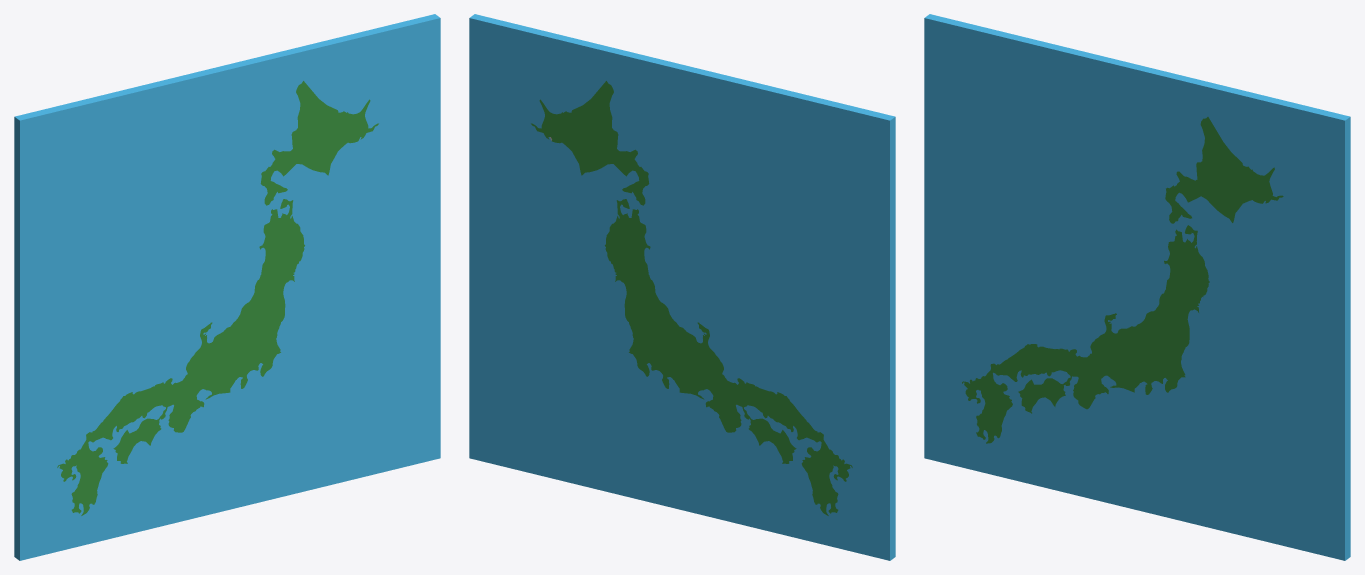
The model's file is map_of_japan.gltf.
3 renders of one model, left to right at view 1: azimuth 30°, elevation 25°; view 2: azimuth 150°, elevation 25°; view 3: azimuth 330°, elevation 25°, orthographic.
Parts seen in each view (by area): view 1: Plane.224; view 2: Plane.224; view 3: Plane.224.
Boxes of the visible parts, x1,y1,x2,y2 form: Plane.224: (14, 14, 440, 560); Plane.224: (469, 14, 895, 560); Plane.224: (924, 14, 1350, 560).
Size of the model in its own units: 2 by 2 by 0.0449.
1 material, 1 textured.
